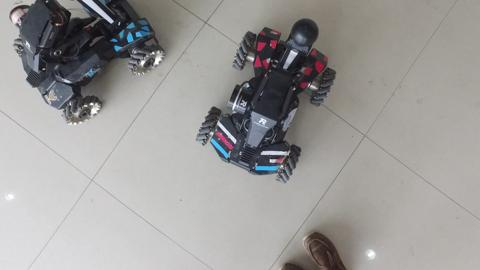chariot: (193, 12, 336, 196), (6, 1, 172, 132)
